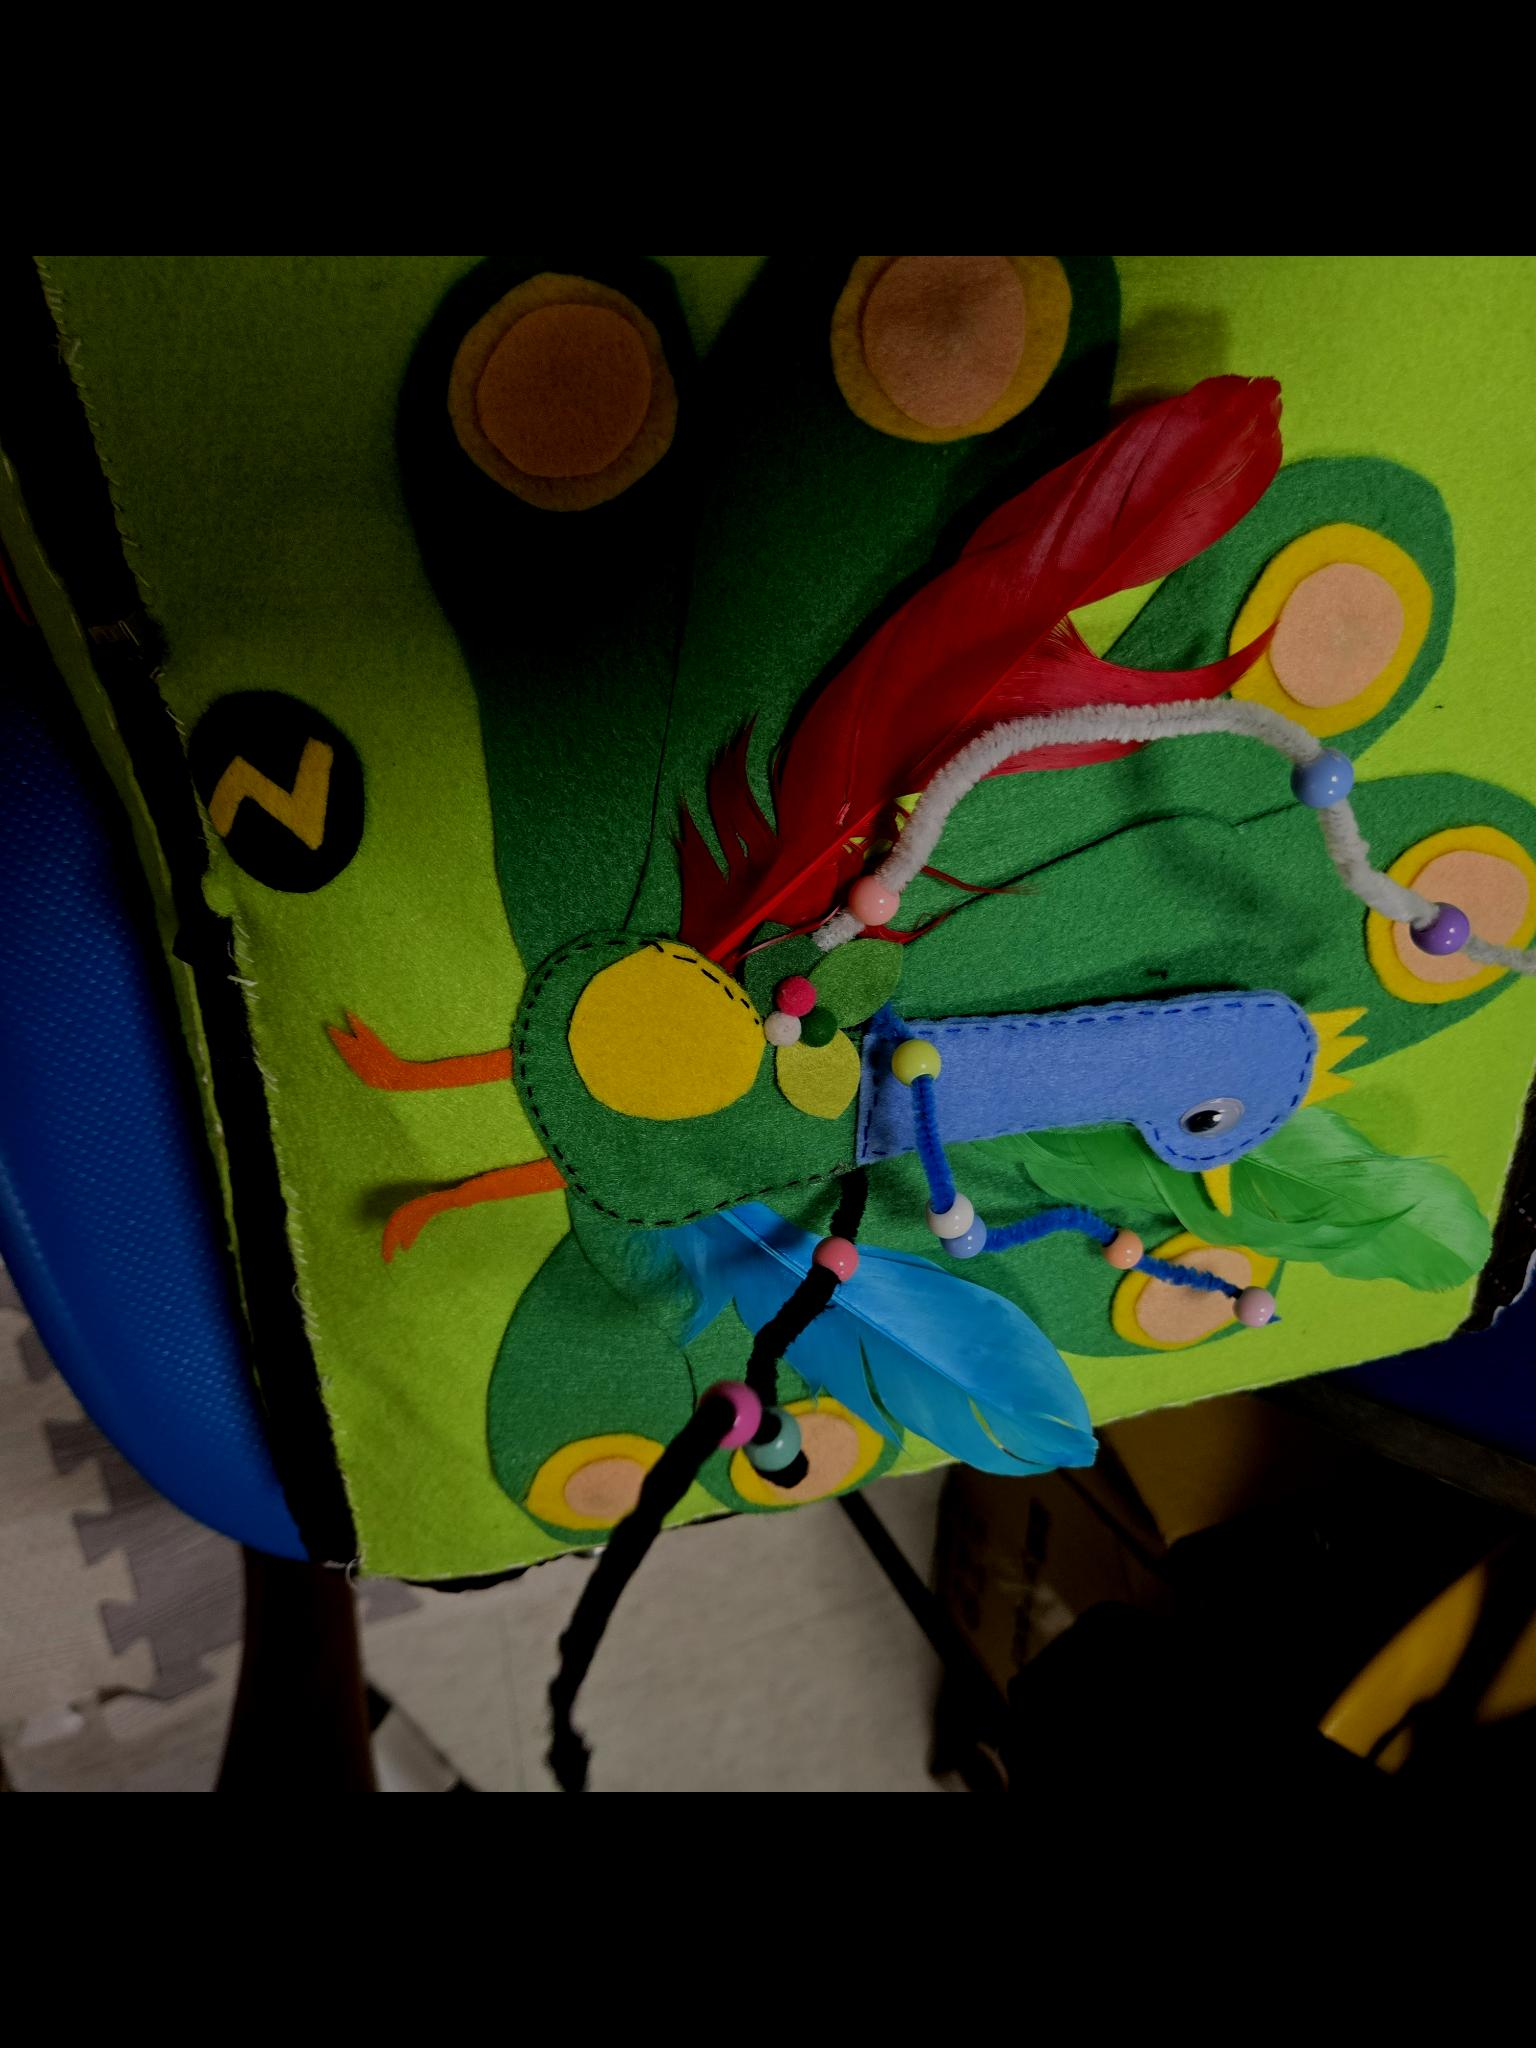bead: (828, 848, 905, 942), (1281, 758, 1370, 814), (889, 1027, 962, 1090), (697, 1380, 762, 1443), (1089, 1221, 1150, 1285), (1233, 1279, 1289, 1342), (1413, 906, 1473, 963), (758, 1429, 818, 1485), (807, 1234, 858, 1290), (950, 1226, 997, 1285), (916, 1192, 962, 1238)
